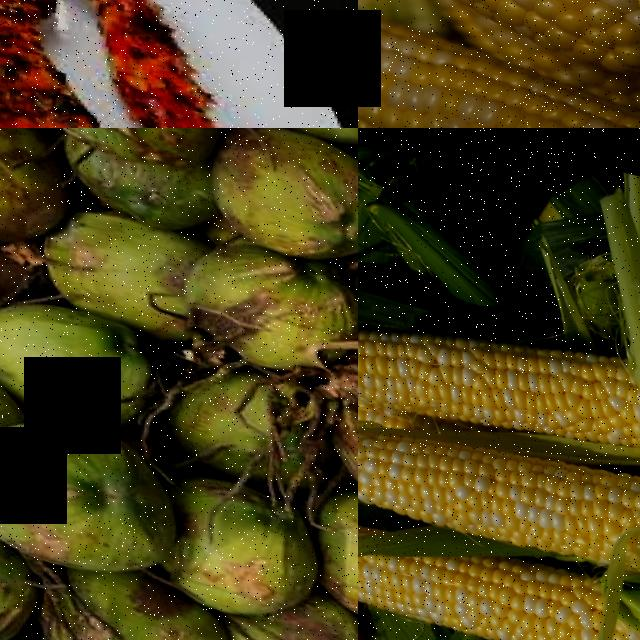coconut: (0, 389, 186, 587), (169, 225, 358, 382), (141, 468, 323, 628), (189, 128, 358, 275), (0, 277, 163, 416), (0, 128, 81, 258), (8, 128, 230, 175)
corn: (358, 270, 640, 470), (358, 397, 640, 579), (358, 497, 617, 640), (358, 0, 640, 128), (358, 0, 640, 81)
crab: (0, 0, 215, 128)
